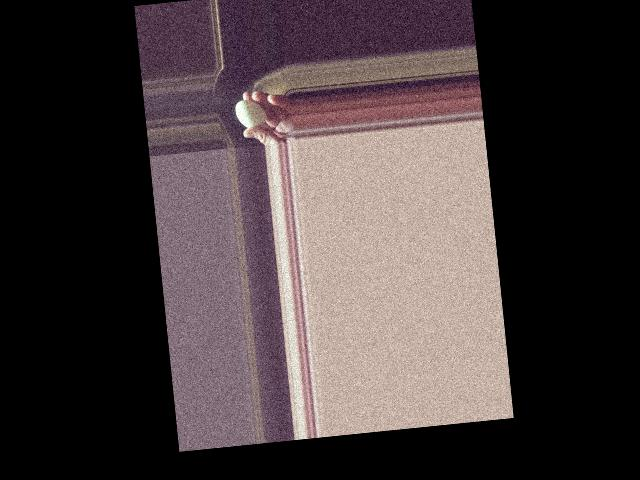egg: (234, 99, 266, 129)
